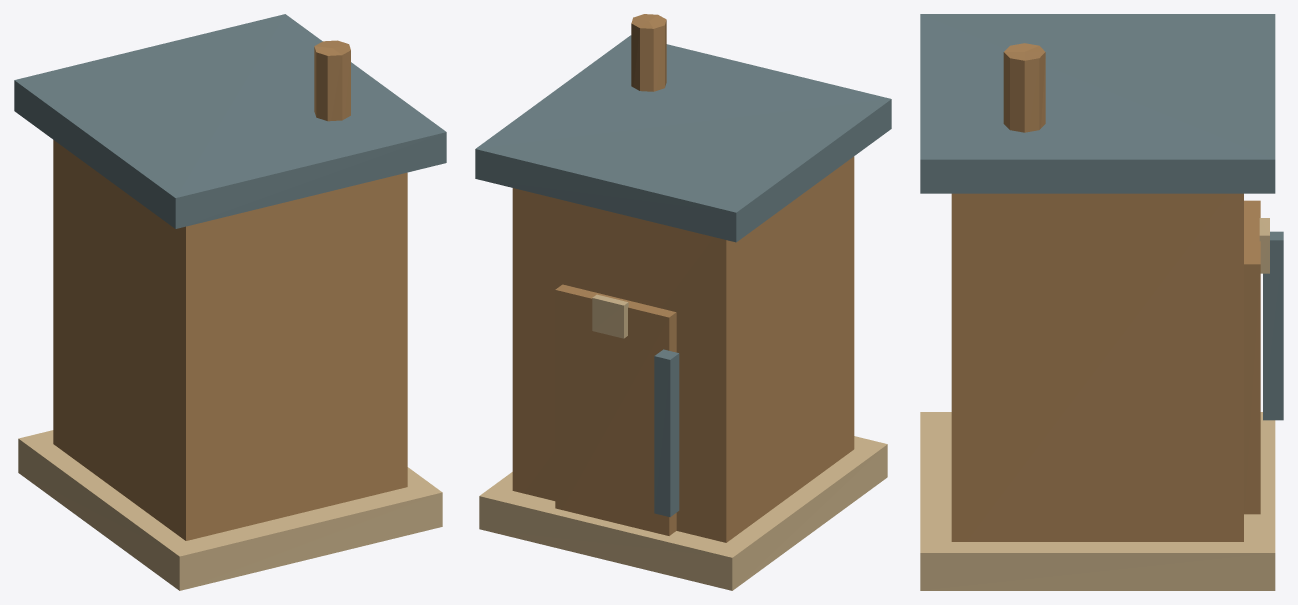
Rendered from Outhouse.glb.
3 views of the same model, side by side, from view 1: azimuth 30°, elevation 25°; view 2: azimuth 150°, elevation 25°; view 3: azimuth 270°, elevation 25° (orthographic). The views are drawn at different scales.
Parts seen in each view (by area): view 1: outhouse-static-out-timber, outhouse-static-out-iron, outhouse-static-out-cream, outhouse-static-out-galv; view 2: outhouse-static-out-timber, outhouse-static-out-iron, outhouse-static-out-teal, outhouse-static-out-cream, outhouse-static-out-galv; view 3: outhouse-static-out-timber, outhouse-static-out-iron, outhouse-static-out-cream, outhouse-static-out-teal, outhouse-static-out-galv.
Boxes of the visible parts, box(x1,y1,x2,y2) form: outhouse-static-out-timber: box(53, 140, 407, 540); outhouse-static-out-iron: box(14, 14, 446, 228); outhouse-static-out-cream: box(18, 430, 442, 590); outhouse-static-out-galv: box(314, 40, 350, 121); outhouse-static-out-timber: box(512, 156, 854, 542); outhouse-static-out-iron: box(475, 35, 891, 516); outhouse-static-out-teal: box(555, 284, 676, 535); outhouse-static-out-cream: box(479, 294, 887, 590); outhouse-static-out-galv: box(631, 14, 666, 91); outhouse-static-out-timber: box(951, 193, 1243, 541); outhouse-static-out-iron: box(920, 14, 1283, 420); outhouse-static-out-cream: box(920, 218, 1275, 590); outhouse-static-out-teal: box(1244, 200, 1260, 514); outhouse-static-out-galv: box(1003, 43, 1045, 132).
Size of the model in its own units: 1.65 by 2.67 by 1.74.
